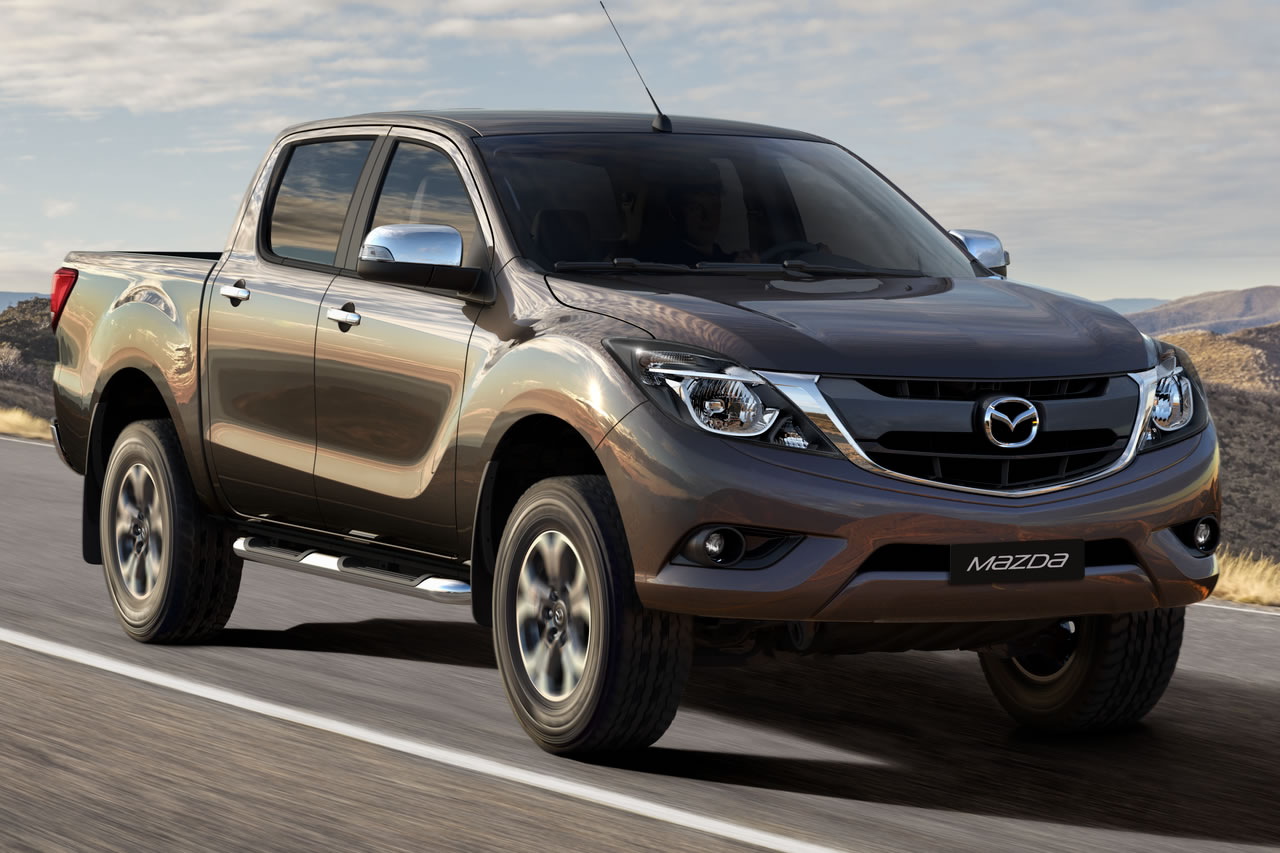pickup: (39, 105, 1229, 783)
